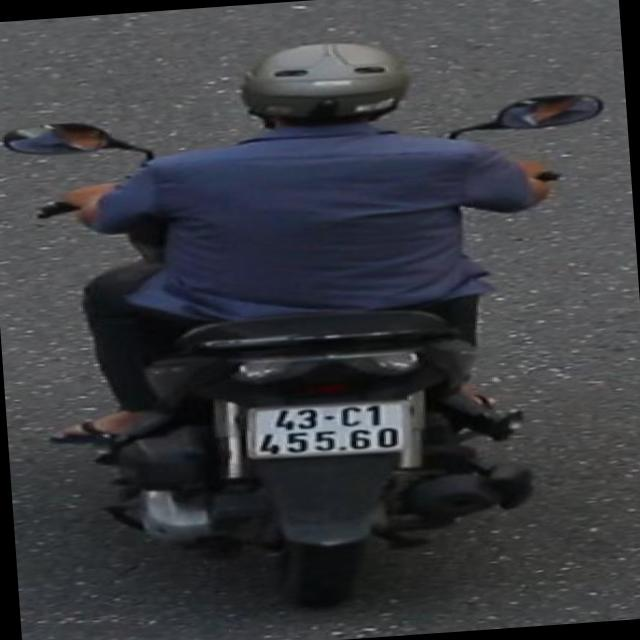LP: (238, 389, 430, 468)
helmet: (236, 30, 428, 148)
